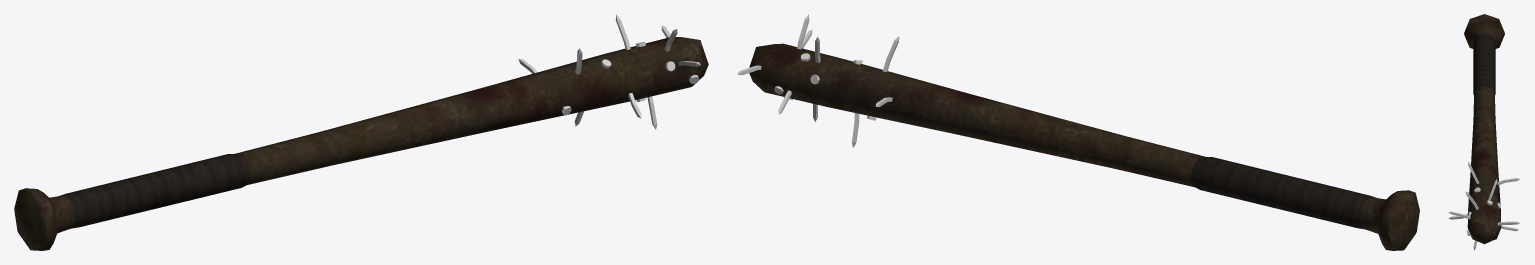
Rendered from baseball_bat_mx_2.obj.
3 views of the same model, side by side, from view 1: azimuth 30°, elevation 25°; view 2: azimuth 150°, elevation 25°; view 3: azimuth 270°, elevation 25° (orthographic). The views are drawn at different scales.
Visible parts, largest first — view 1: baseball_bat_mx_2; view 2: baseball_bat_mx_2; view 3: baseball_bat_mx_2.
Part boxes in pixels (x1,y1,x2,y2): baseball_bat_mx_2: (14,14,708,250); baseball_bat_mx_2: (737,14,1419,250); baseball_bat_mx_2: (1448,14,1519,250).
Size of the model in its own units: 1.24 by 0.1879 by 0.1866.
